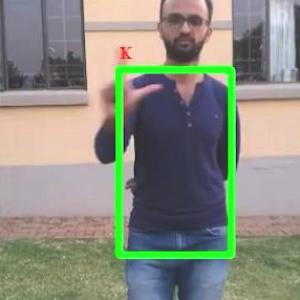land_hand: (95, 39, 163, 116)
